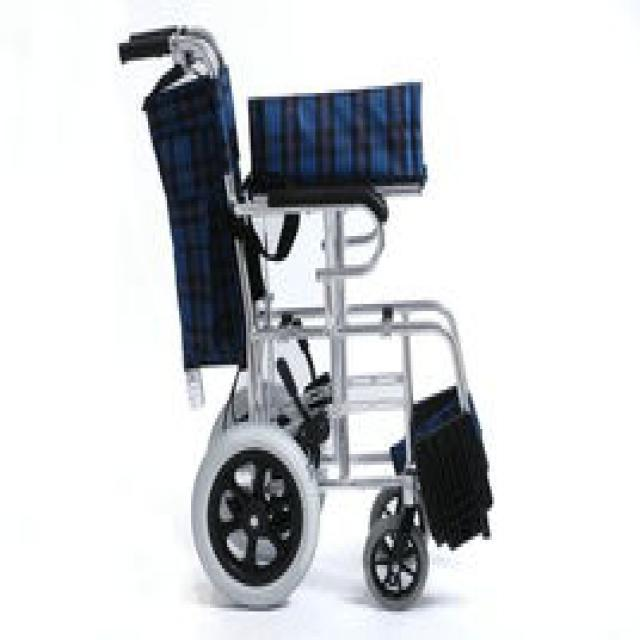wheelchair: (117, 18, 502, 622)
